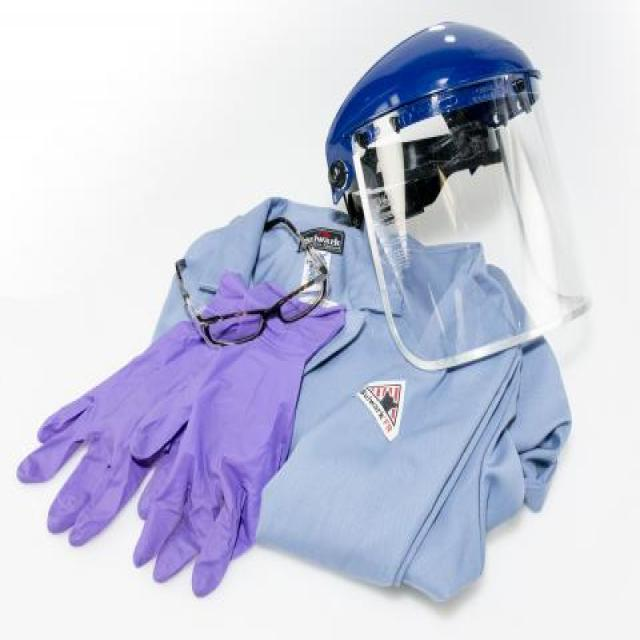Gloves: (14, 288, 354, 594)
